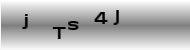4: (93, 11, 109, 25)
J: (112, 9, 120, 25)
T: (52, 25, 66, 40)
j: (21, 13, 29, 29)
s: (66, 20, 79, 30)
